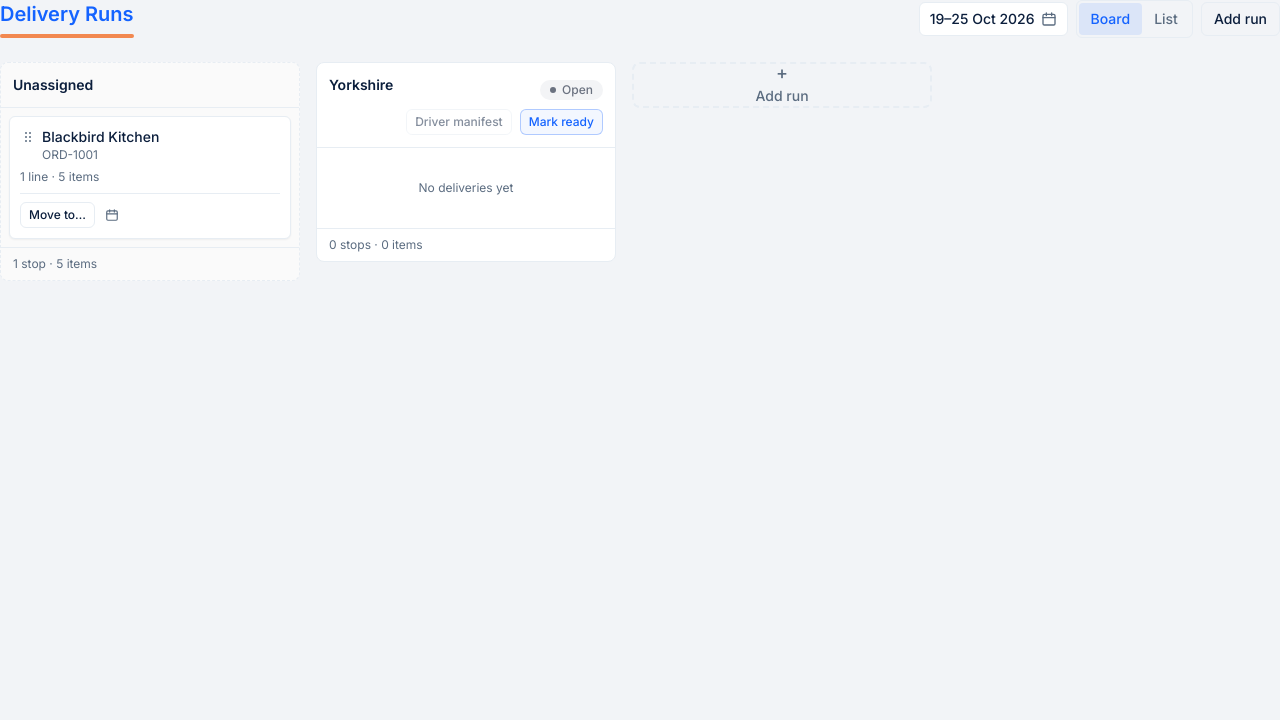
it: DeliveryRunsPage — change delivery date flow › on 409, shows a banner, refetches, and closes the dialog
Click the button named "Change delivery date". click: (112,215)
box: [101,204,123,226]
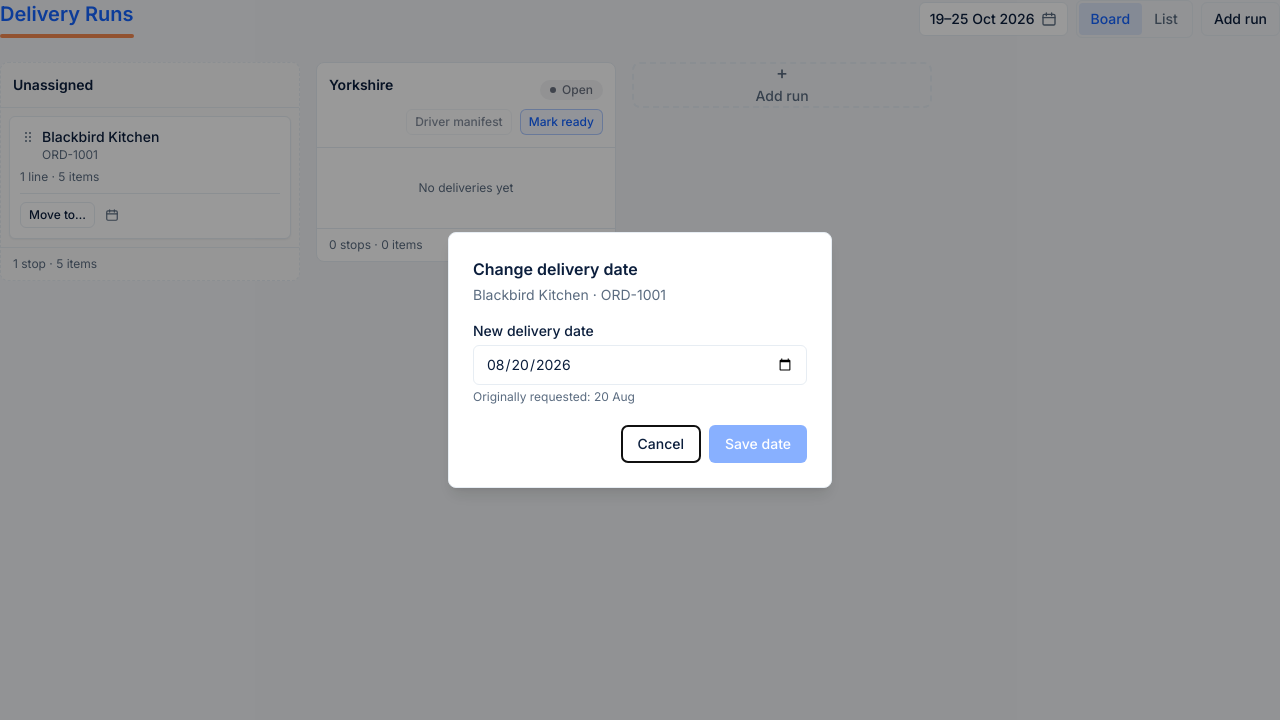
Clear the date field labelled "New delivery date". click: (640,365)
box: [473,345,807,385]
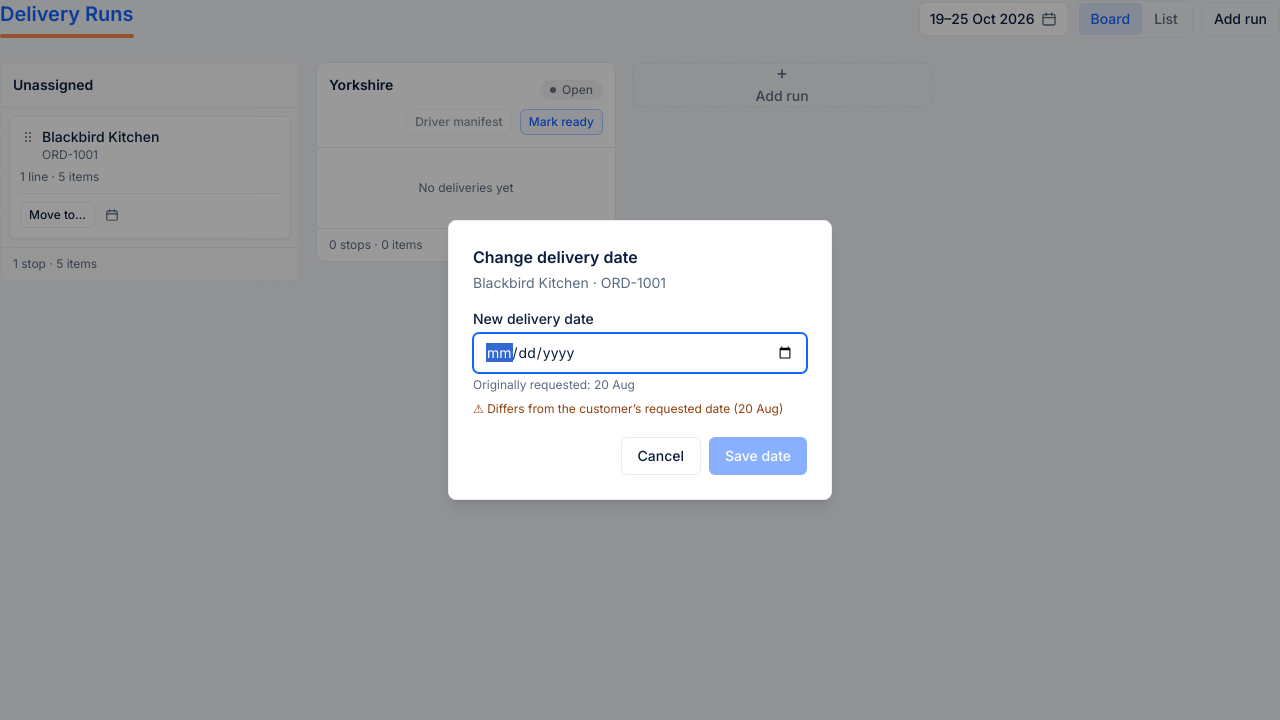
Type "2026-08-25" into the date field labelled "New delivery date". click: (640,353)
box: [473,333,807,373]
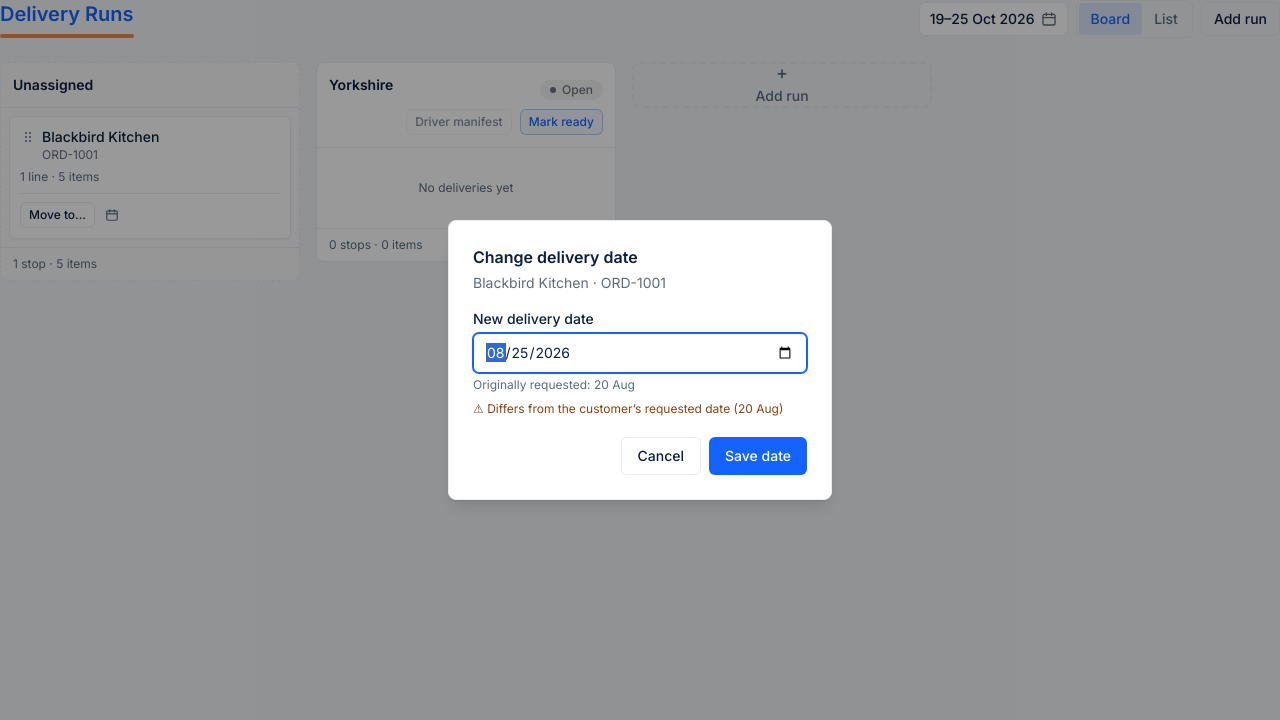
Expected: the button "Save date" is enabled
Click the button "Save date". click: (758,456)
box: [709,437,807,475]
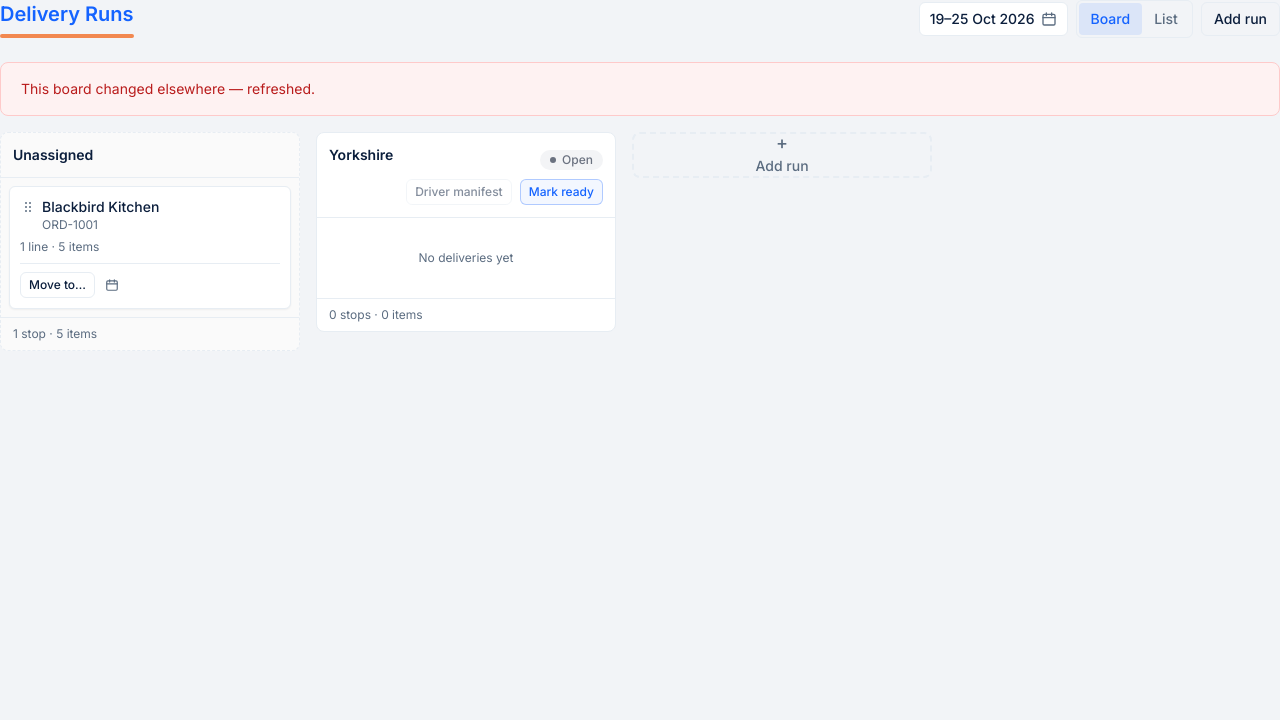
Expected: the text "This board changed elsewhere — refreshed." is shown, [0,62,1279,116]
Expected: the heading "Change delivery date" is gone
